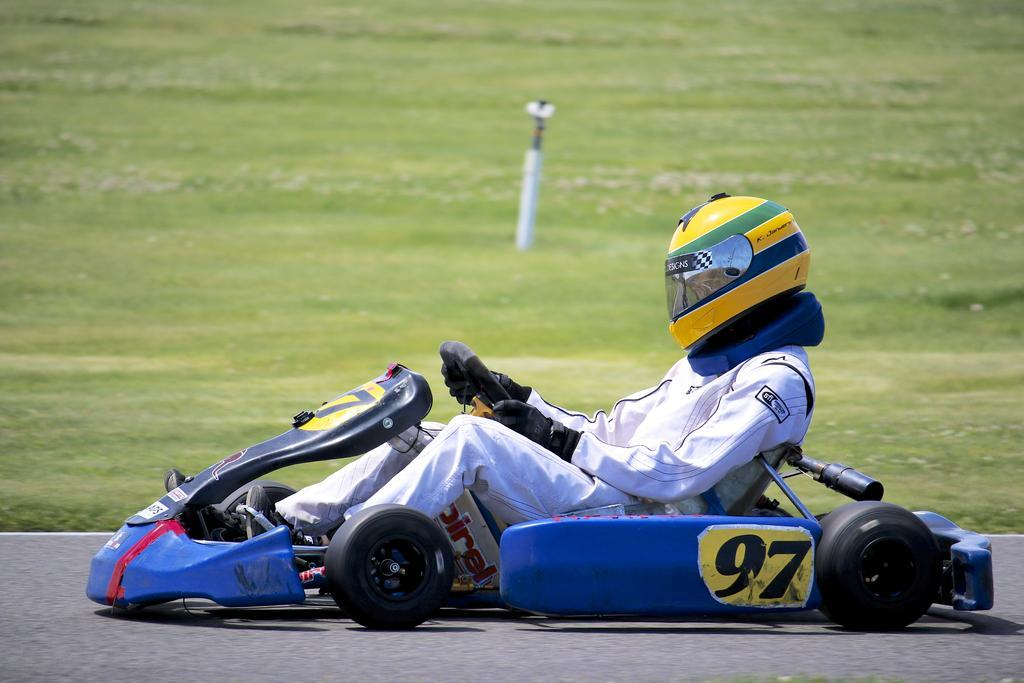helmet: (664, 190, 812, 352)
